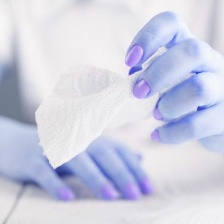tissue: (26, 39, 176, 175)
